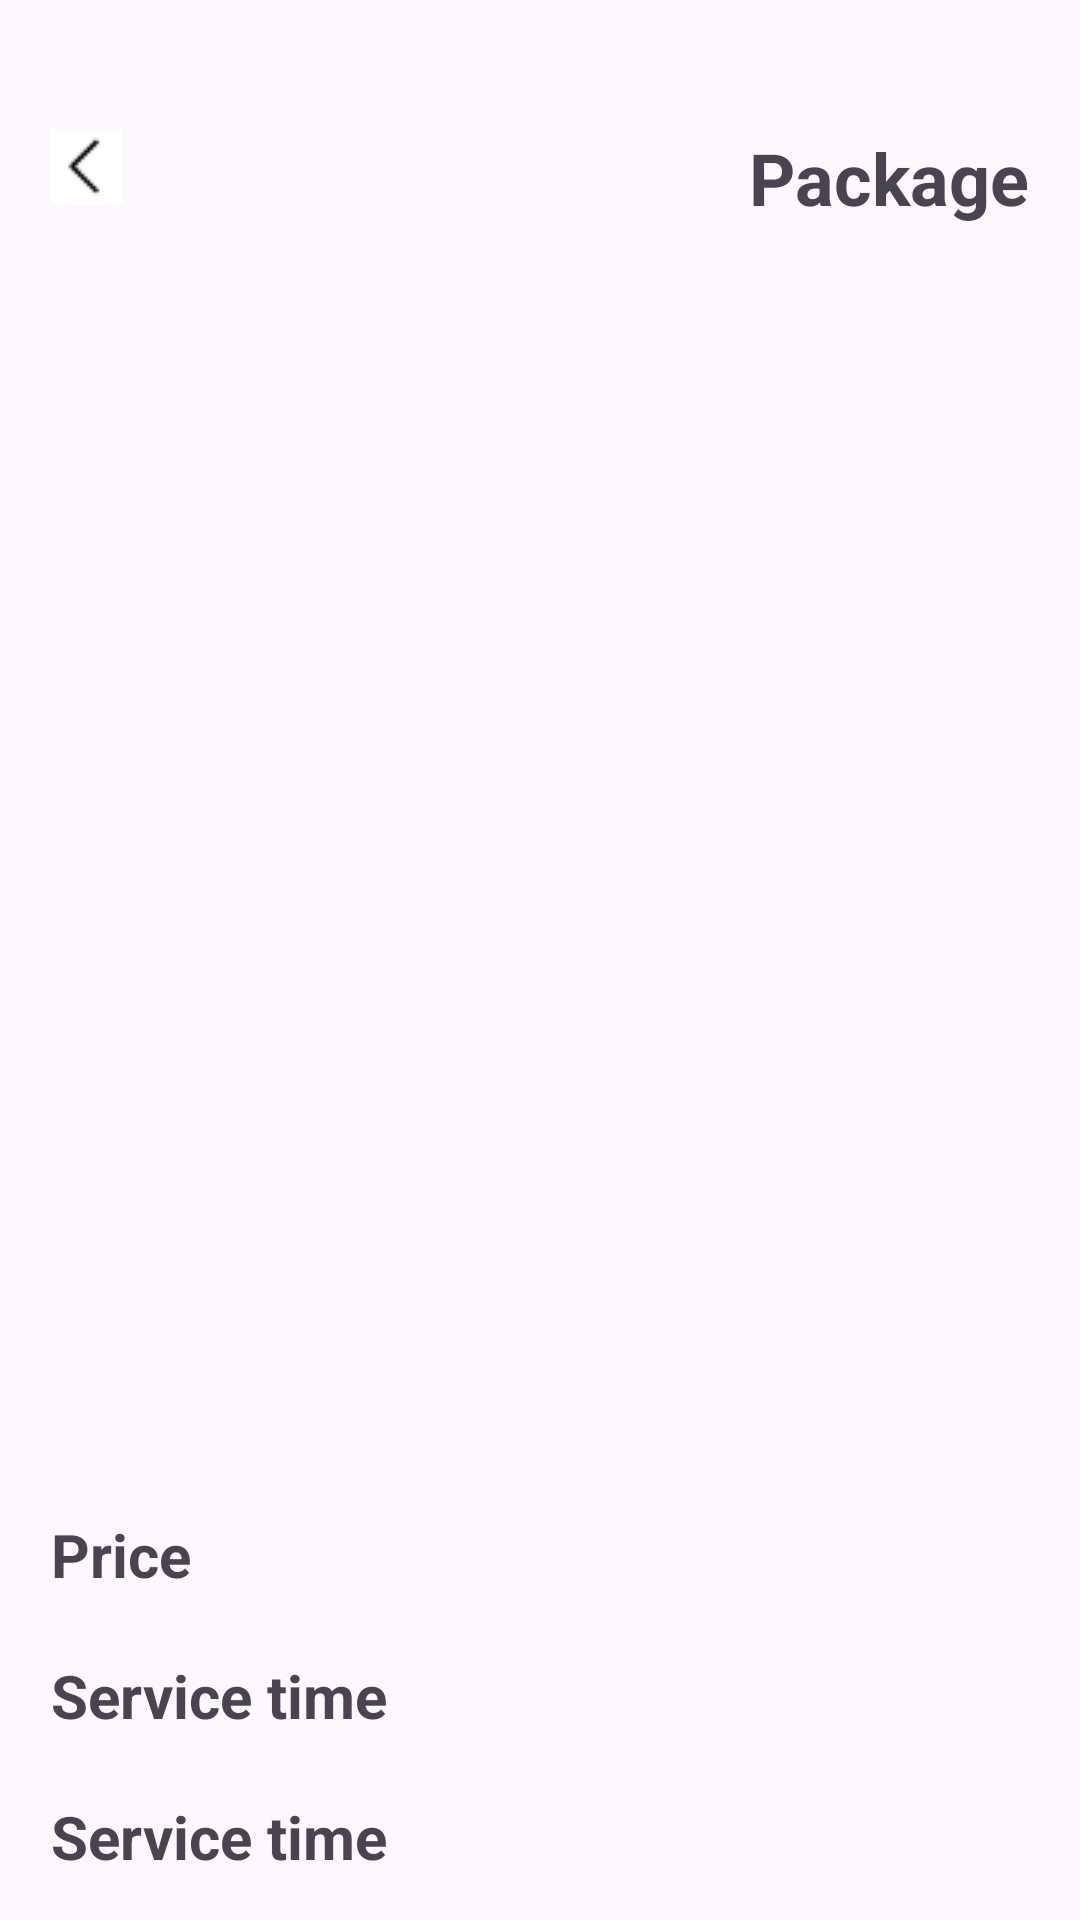

Icon bounding boxes for this 1080×1920 phone screenshot, format (x1, y1, x2, y2):
back: (68, 138, 100, 194)
